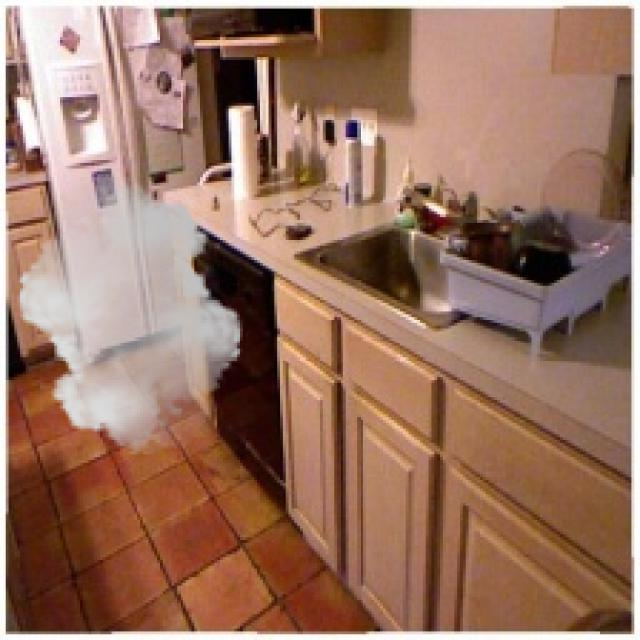smoke: (8, 177, 252, 454)
